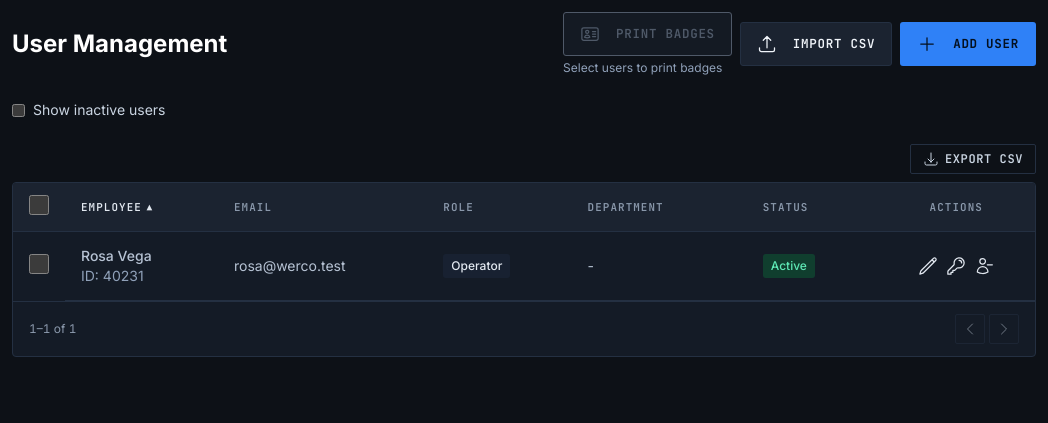
Test case: Users badge printing › select-all reflects partial selection after new users appear in a refetch
expect the text "Rosa Vega" is shown: met, box [81,247,152,264]
Click the checkbox named "Select all rows": (39, 205) [29,195,49,215]
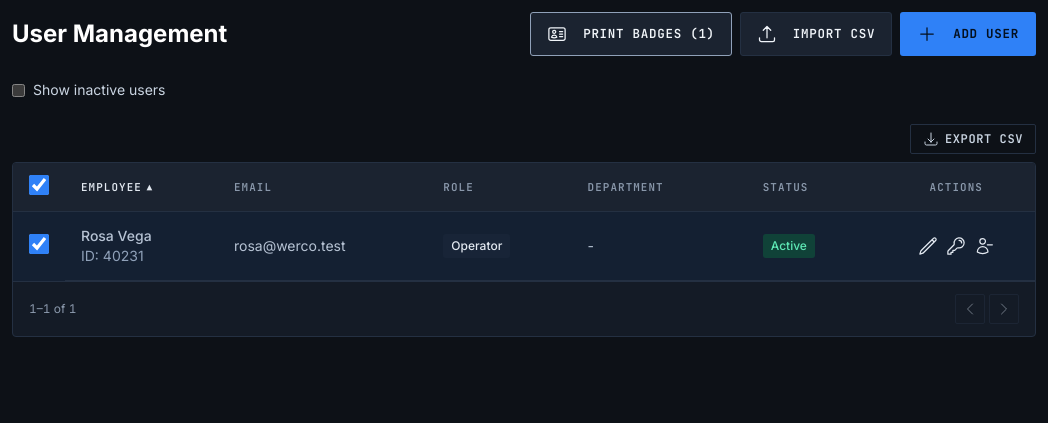
Click the checkbox labelled "Show inactive users": (18, 90) [12,84,25,96]
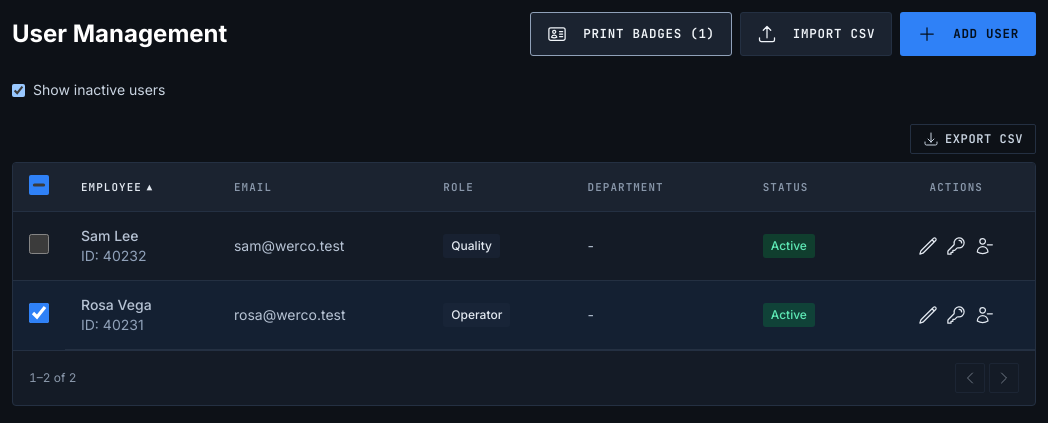
expect the checkbox named "Select all rows" is not checked: met, box [29,175,49,195]
expect the button "Print Badges (1)" is shown: met, box [530,12,732,56]
expect the text "Sam Lee" is shown: met, box [81,227,138,244]
